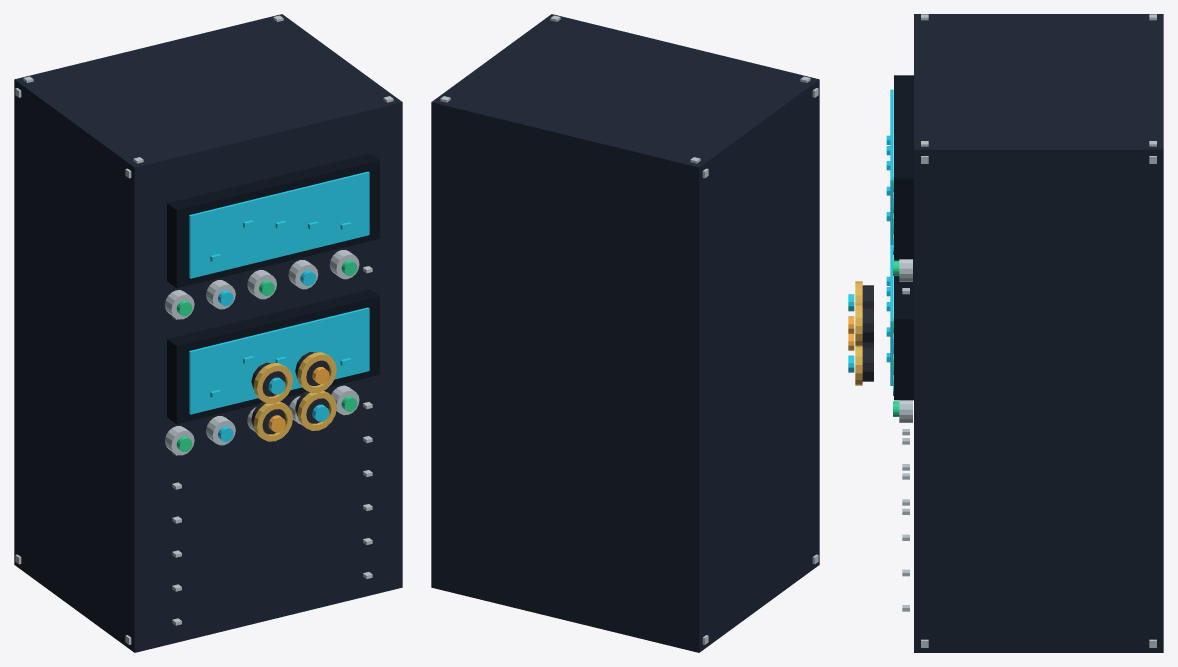
File: 53_L82_OpticalLinkJitterAndControlMonitor.fbx
The picture shows the model from 3 angles, left to right: view 1: azimuth 30°, elevation 25°; view 2: azimuth 150°, elevation 25°; view 3: azimuth 270°, elevation 25°; orthographic projection. The views are drawn at different scales.
Visible parts, largest first — view 1: OpticalLinkJitterAndControlMonitor; view 2: OpticalLinkJitterAndControlMonitor; view 3: OpticalLinkJitterAndControlMonitor.
Boxes of the visible parts, bbox=[...] form: OpticalLinkJitterAndControlMonitor: bbox=[14, 14, 402, 652]; OpticalLinkJitterAndControlMonitor: bbox=[431, 14, 819, 652]; OpticalLinkJitterAndControlMonitor: bbox=[848, 14, 1163, 652].
Bounding box in the file's own units: 106 × 182 × 102.
